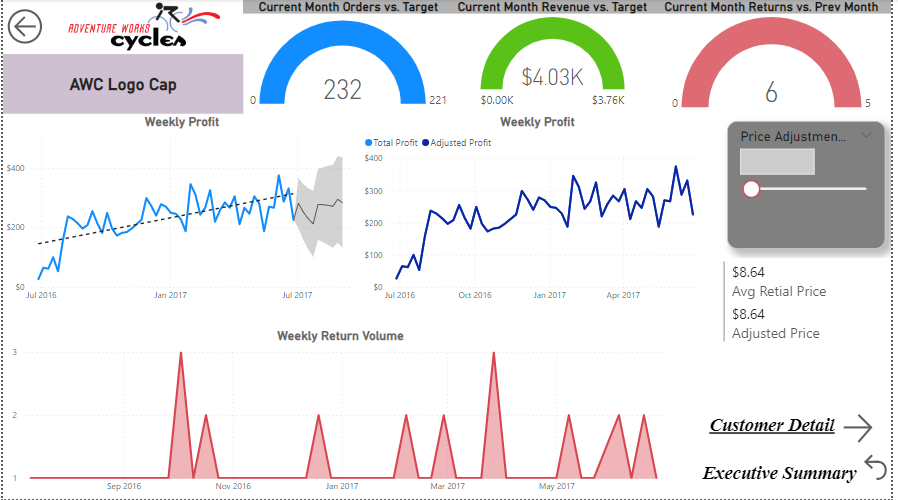

Layout of this report page (visuals, bound fields, positions):
{"tool":"powerbi","page":{"name":"Product Detail","canvas":[1280,720],"ordinal":1},"visuals":[{"type":"lineChart","title":"Weekly Profit","fields":{"Y":["Key Measures.Total Profit"],"Category":["AW_Calendar_Lookup.Start of Week"]},"box":[0,165.6,515.5,279.4],"z":0},{"type":"areaChart","title":"Weekly Return Volume","fields":{"Category":["AW_Calendar_Lookup.Start of Week"],"Y":["Key Measures.Total Returns"]},"box":[0,473.8,972,246.2],"z":1000},{"type":"image","box":[63.4,0,282.2,79.2],"z":2000},{"type":"gauge","title":"Current Month Orders vs. Target","fields":{"Y":["Key Measures.Total Orders"],"MaxValue":["Key Measures.Order Target"]},"box":[345.6,0,303.8,165.6],"z":3000},{"type":"gauge","title":"Current Month Revenue vs. Target","fields":{"Y":["Key Measures.Total Revenue"],"MaxValue":["Key Measures.Revenue Target"]},"box":[639.4,0,303.8,165.6],"z":4000},{"type":"gauge","title":"Current Month Returns vs. Prev Month","fields":{"Y":["Key Measures.Total Returns"],"MaxValue":["Key Measures.Prev Month Returns"]},"box":[933.1,0,347,165.6],"z":5000},{"type":"card","fields":{"Values":["Min(AW_Product_Lookup.ProductName)"]},"box":[0,79.2,345.6,86.4],"z":6000},{"type":"actionButton","box":[0,0,63.4,79.2],"z":7000},{"type":"slicer","fields":{"Values":["Price Adjustment (%).Price Adjustment (%)"]},"box":[1042.6,175.7,227.5,184.3],"z":8000},{"type":"multiRowCard","fields":{"Values":["Key Measures.Avg Retial Price","Key Measures.Adjusted Price"]},"box":[1032.5,373,247.7,155.5],"z":9000},{"type":"lineChart","title":"Weekly Profit","fields":{"Y":["Key Measures.Total Profit","Key Measures.Adjusted Profit"],"Category":["AW_Calendar_Lookup.Start of Week"]},"box":[515.5,165.6,508.3,279.4],"z":10000},{"type":"textbox","box":[1012.3,576,267.8,74.9],"z":11000},{"type":"actionButton","box":[1203.8,591.8,56.2,53.3],"z":12000},{"type":"textbox","box":[989.3,645.1,290.9,74.9],"z":13000},{"type":"actionButton","box":[1232.6,645.1,47.5,57.6],"z":14000}]}

Visuals, with their boxes in screenshot pixels (x1, y1, x2, y2), scaled from the page's 1280x720 canvas onto the 898x500 screenshot:
"Weekly Profit" lineChart: [x1=0, y1=115, x2=362, y2=309]
"Weekly Return Volume" areaChart: [x1=0, y1=329, x2=682, y2=499]
image: [x1=44, y1=0, x2=242, y2=55]
"Current Month Orders vs. Target" gauge: [x1=242, y1=0, x2=456, y2=115]
"Current Month Revenue vs. Target" gauge: [x1=449, y1=0, x2=662, y2=115]
"Current Month Returns vs. Prev Month" gauge: [x1=655, y1=0, x2=897, y2=115]
card - Min(AW_Product_Lookup.ProductName): [x1=0, y1=55, x2=242, y2=115]
actionButton: [x1=0, y1=0, x2=44, y2=55]
slicer - Price Adjustment (%).Price Adjustment (%): [x1=731, y1=122, x2=891, y2=250]
multiRowCard - Key Measures.Avg Retial Price x Key Measures.Adjusted Price: [x1=724, y1=259, x2=897, y2=367]
"Weekly Profit" lineChart: [x1=362, y1=115, x2=718, y2=309]
textbox: [x1=710, y1=400, x2=897, y2=452]
actionButton: [x1=845, y1=411, x2=884, y2=448]
textbox: [x1=694, y1=448, x2=897, y2=499]
actionButton: [x1=865, y1=448, x2=897, y2=488]
